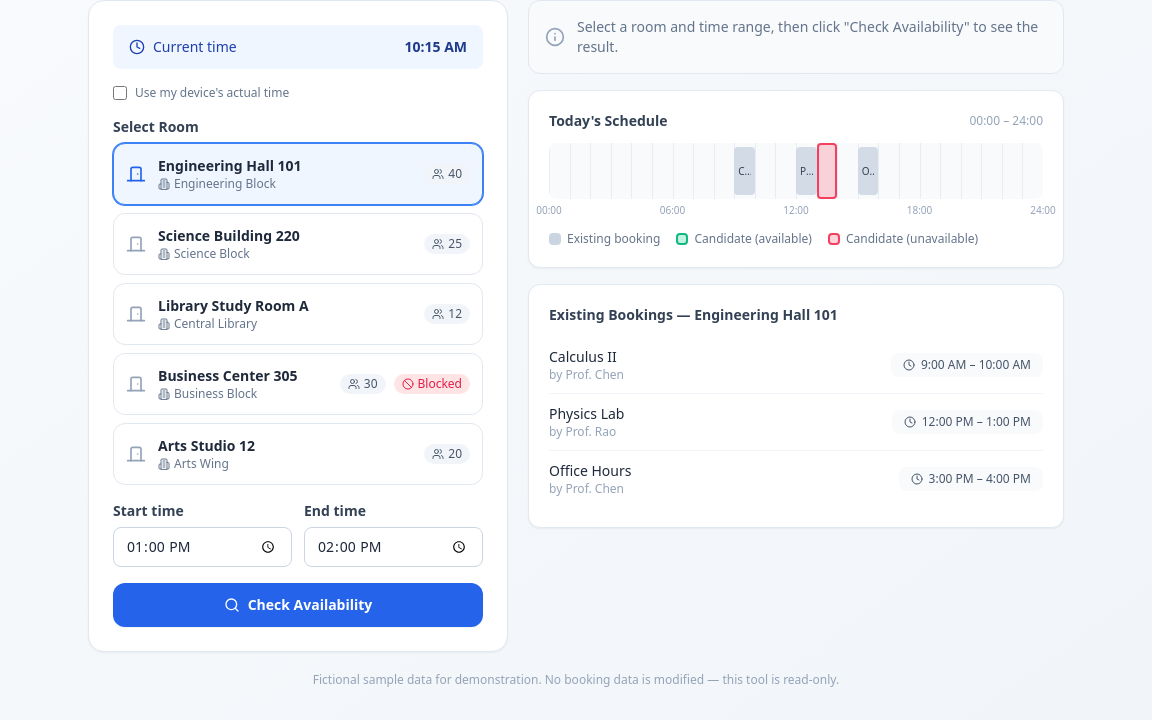
Test: App — R3: stale timeline candidate color after input change › candidate resets after editing time to overlap an existing booking
Later steps or results of the test are not shown.
(page scrolled)
Click the button "Check Availability": (298, 605) [113,583,483,627]
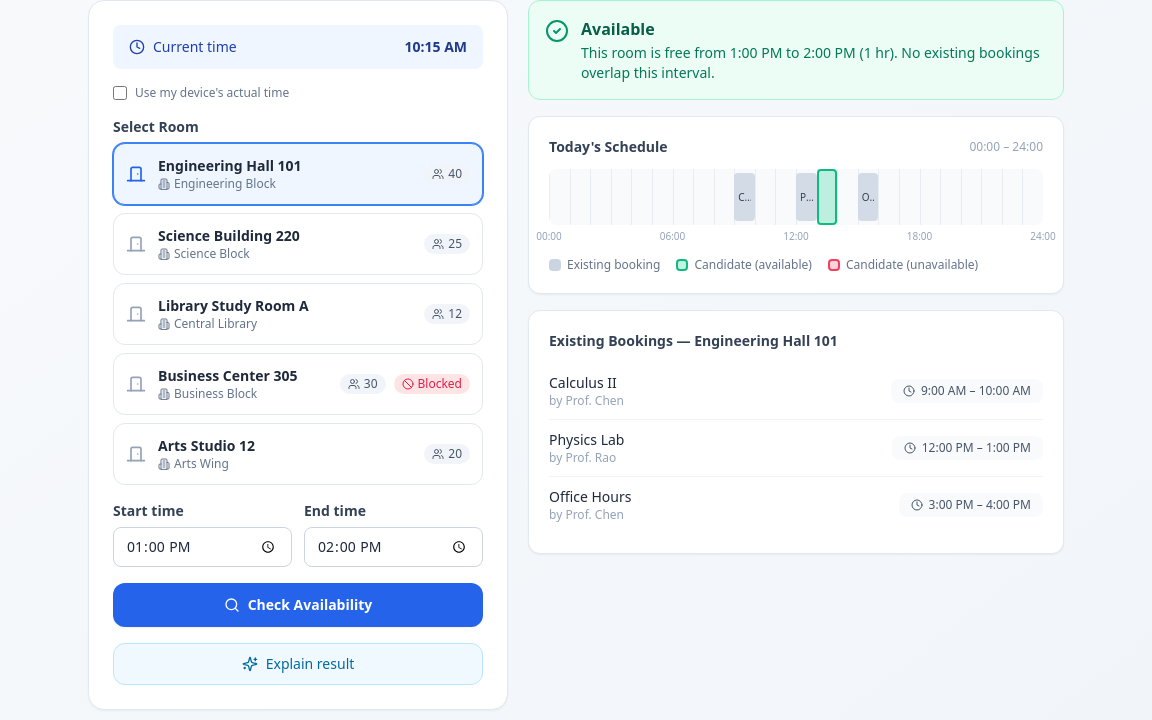
Check: the 1st element with class "relative" is shown, box [549,169,1043,225]
Check: the element named "1:00 PM–2:00 PM" is shown, box [817,169,837,225]
